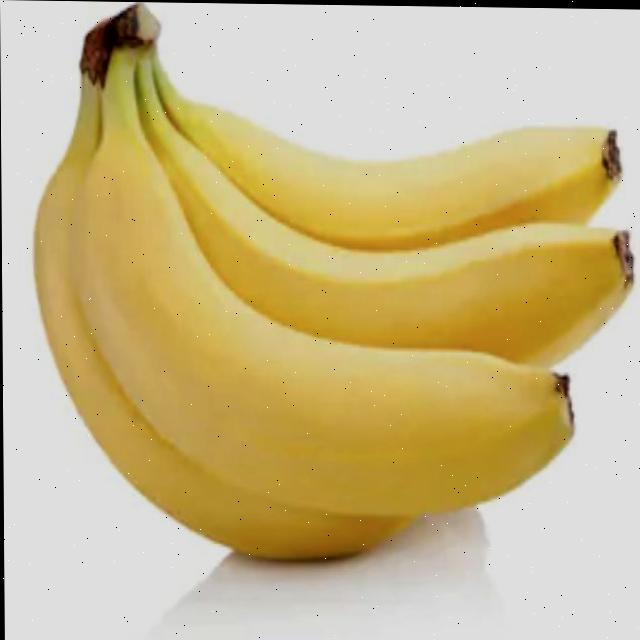banana: (34, 33, 640, 594)
